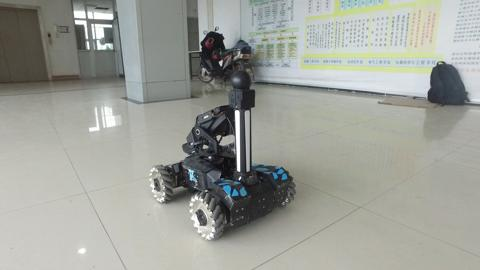bag: (419, 58, 475, 112)
chariot: (144, 64, 302, 241)
